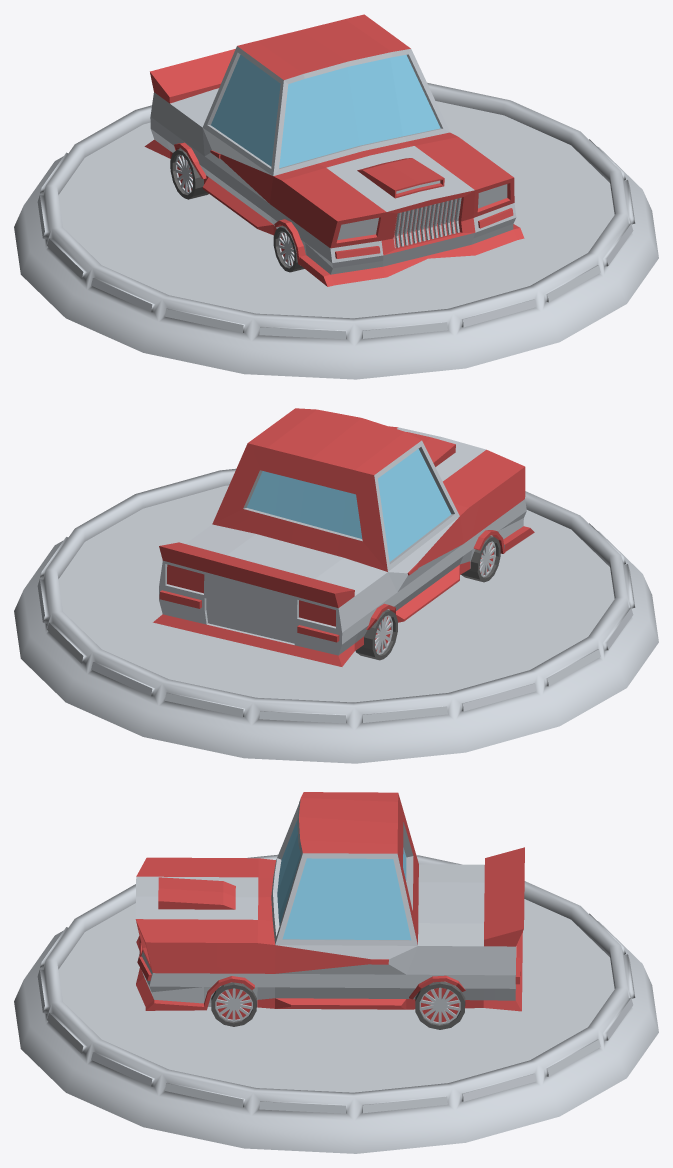
Rendered from Auto.fbx.
3 renders of one model, top to bottom at view 1: azimuth 30°, elevation 25°; view 2: azimuth 150°, elevation 25°; view 3: azimuth 270°, elevation 25°, orthographic.
Parts seen in each view (by area): view 1: Auto; view 2: Auto; view 3: Auto.
Part boxes in pixels (<box>): Auto: <box>14,14,658,379</box>; Auto: <box>14,408,658,763</box>; Auto: <box>14,792,658,1153</box>.
Size of the model in its own units: 197 by 66 by 196.
